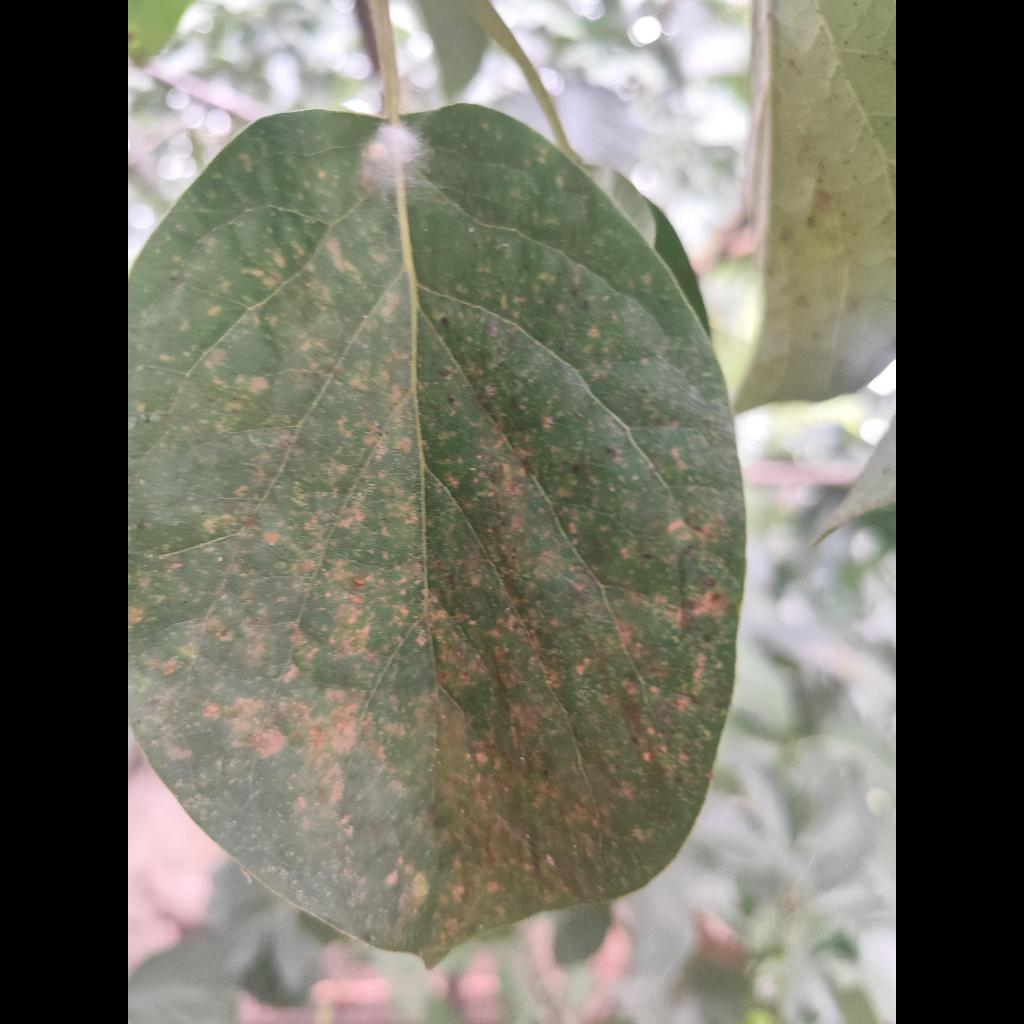antracnosis_hoja: (128, 108, 744, 963)
